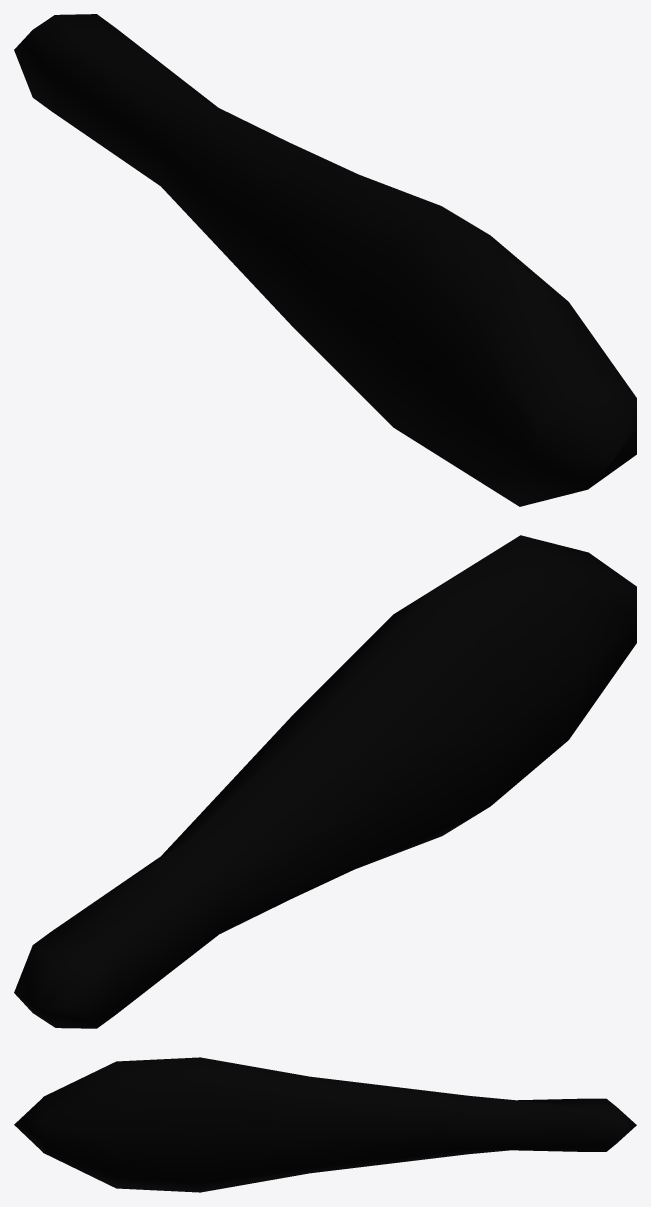
3 views of the same model, one above another, from view 1: azimuth 30°, elevation 25°; view 2: azimuth 150°, elevation 25°; view 3: azimuth 270°, elevation 25° (orthographic). The views are drawn at different scales.
Parts seen in each view (by area): view 1: T1L6M006_19; view 2: T1L6M006_19; view 3: T1L6M006_19.
Boxes of the visible parts, <box> form: T1L6M006_19: <box>14,14,636,506</box>; T1L6M006_19: <box>14,535,636,1028</box>; T1L6M006_19: <box>14,1057,636,1192</box>.
Bounding box in the file's own units: 0.1592 × 0.2959 × 1.24.
